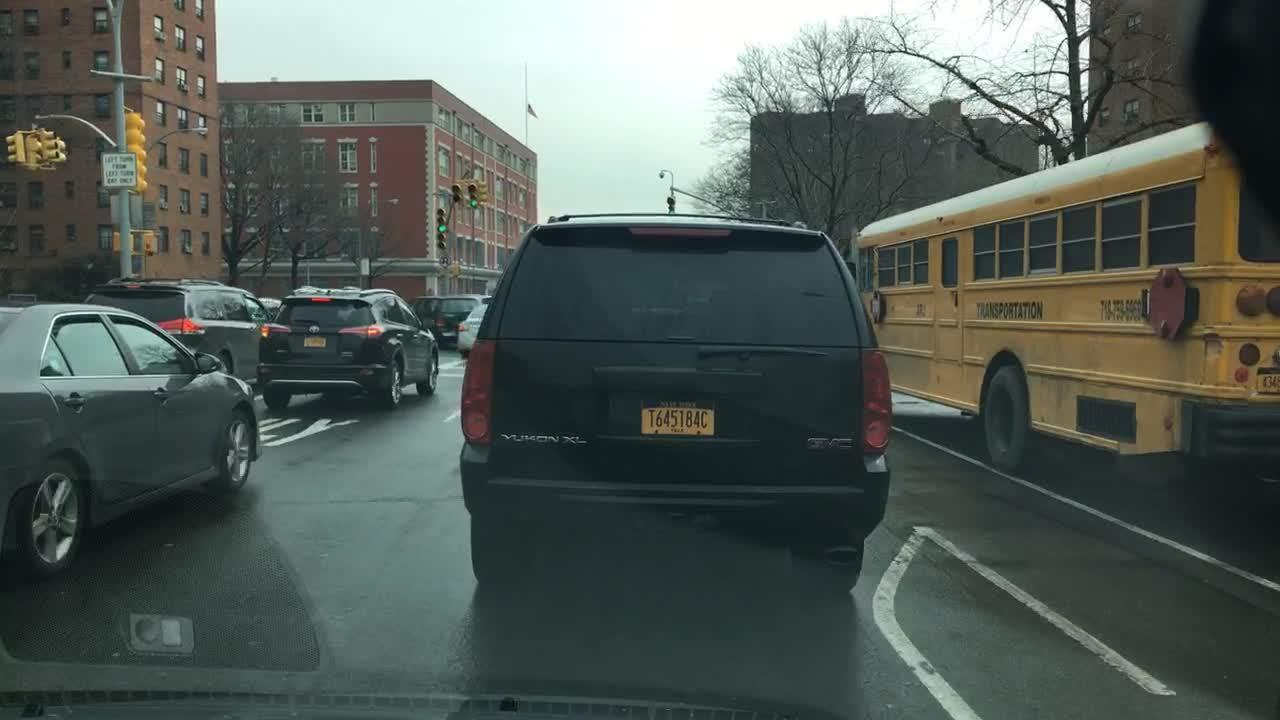GMC: (794, 423, 858, 461)
Toyota: (301, 320, 326, 336)
